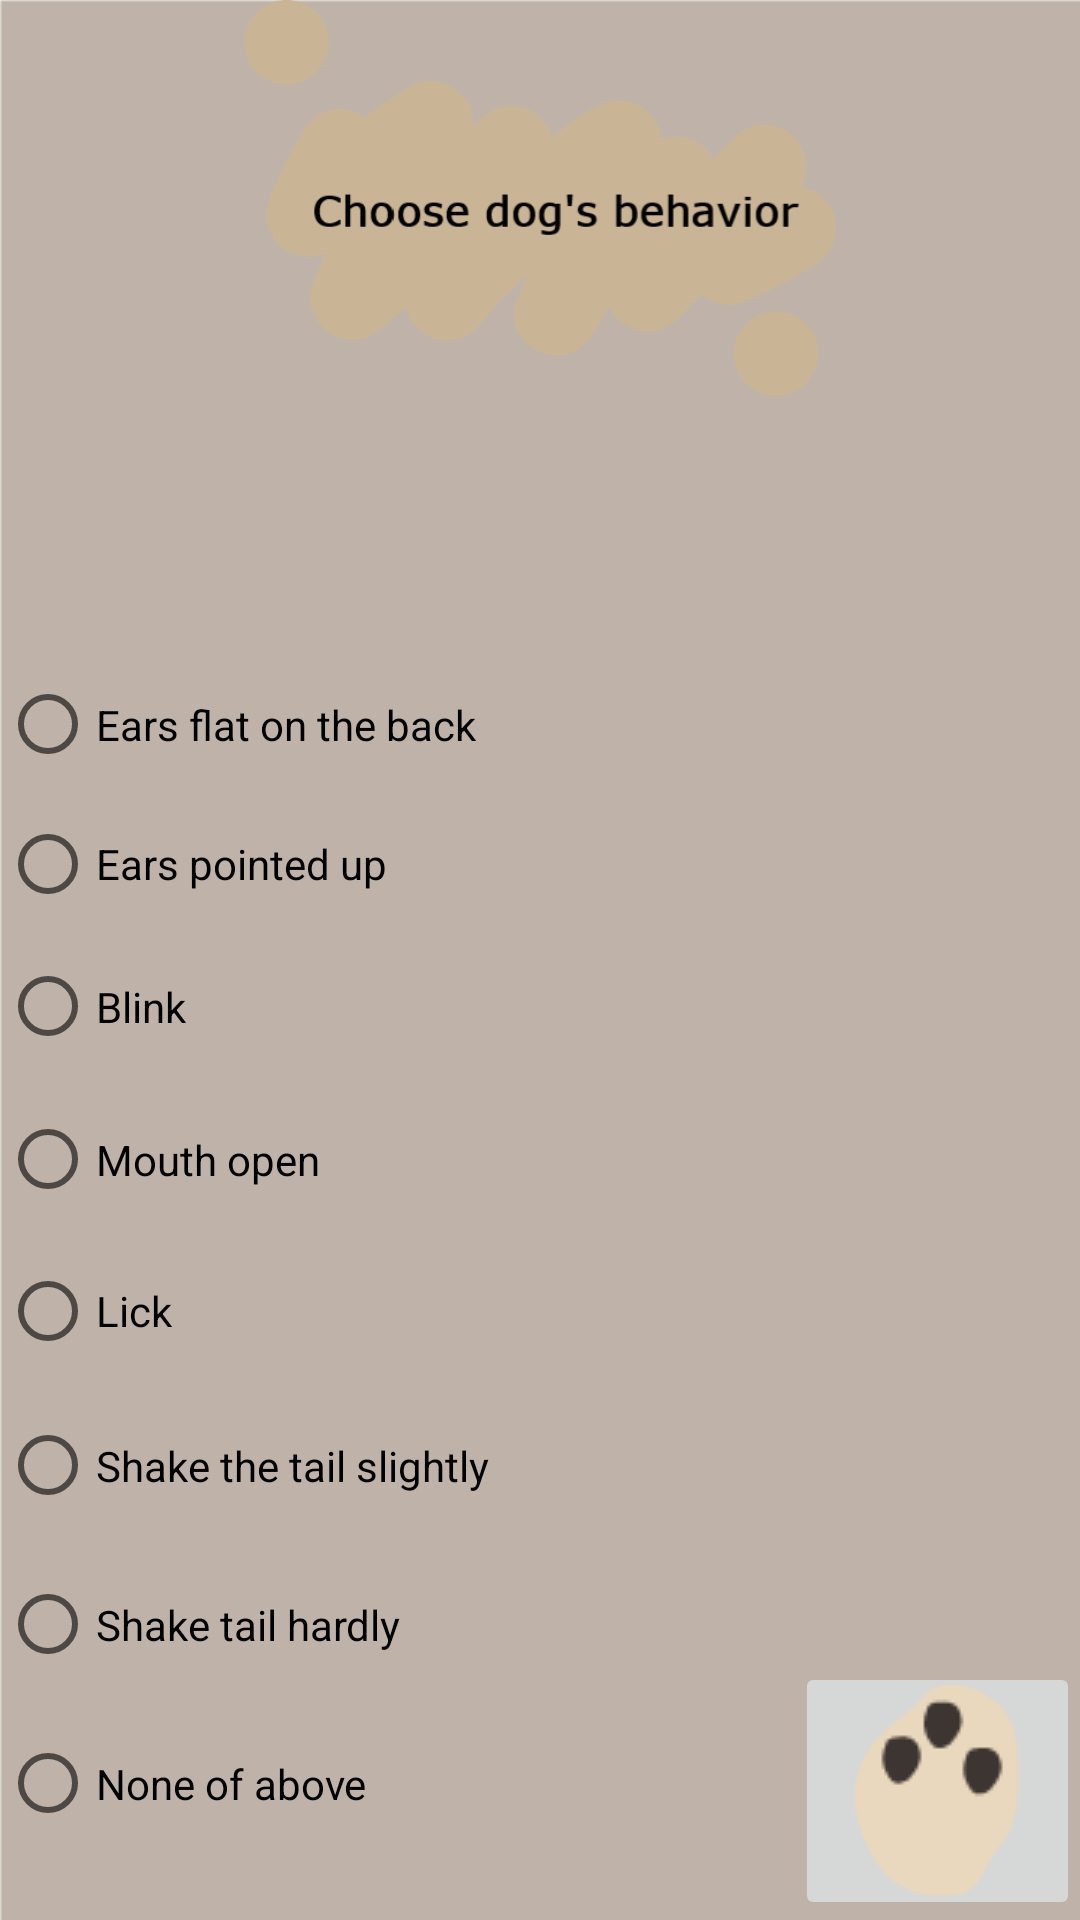

Icons on this 1080px x 1920px Android screen, each with its box as (x1, y1, x2, y2):
pawbutton: (807, 1680, 1068, 1902)
